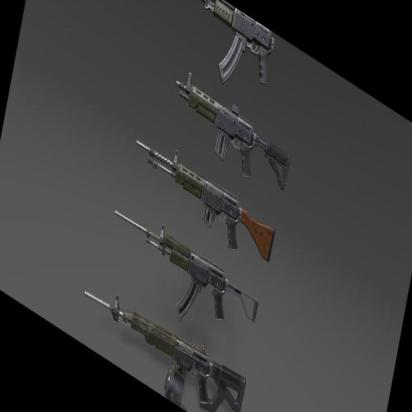Gun: (108, 195, 265, 362), (128, 125, 286, 275), (165, 57, 297, 207)
